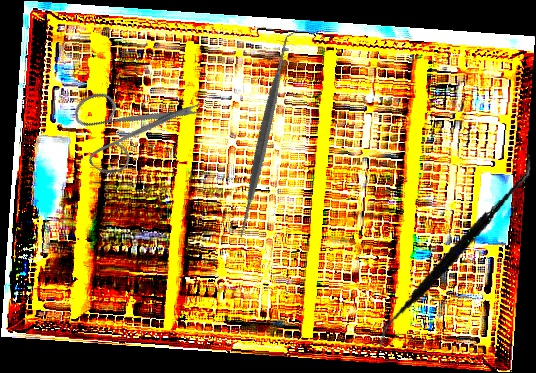Iris Scissors: (53, 45, 207, 200)
Spatula Surgical: (158, 29, 371, 243), (376, 135, 533, 366)
